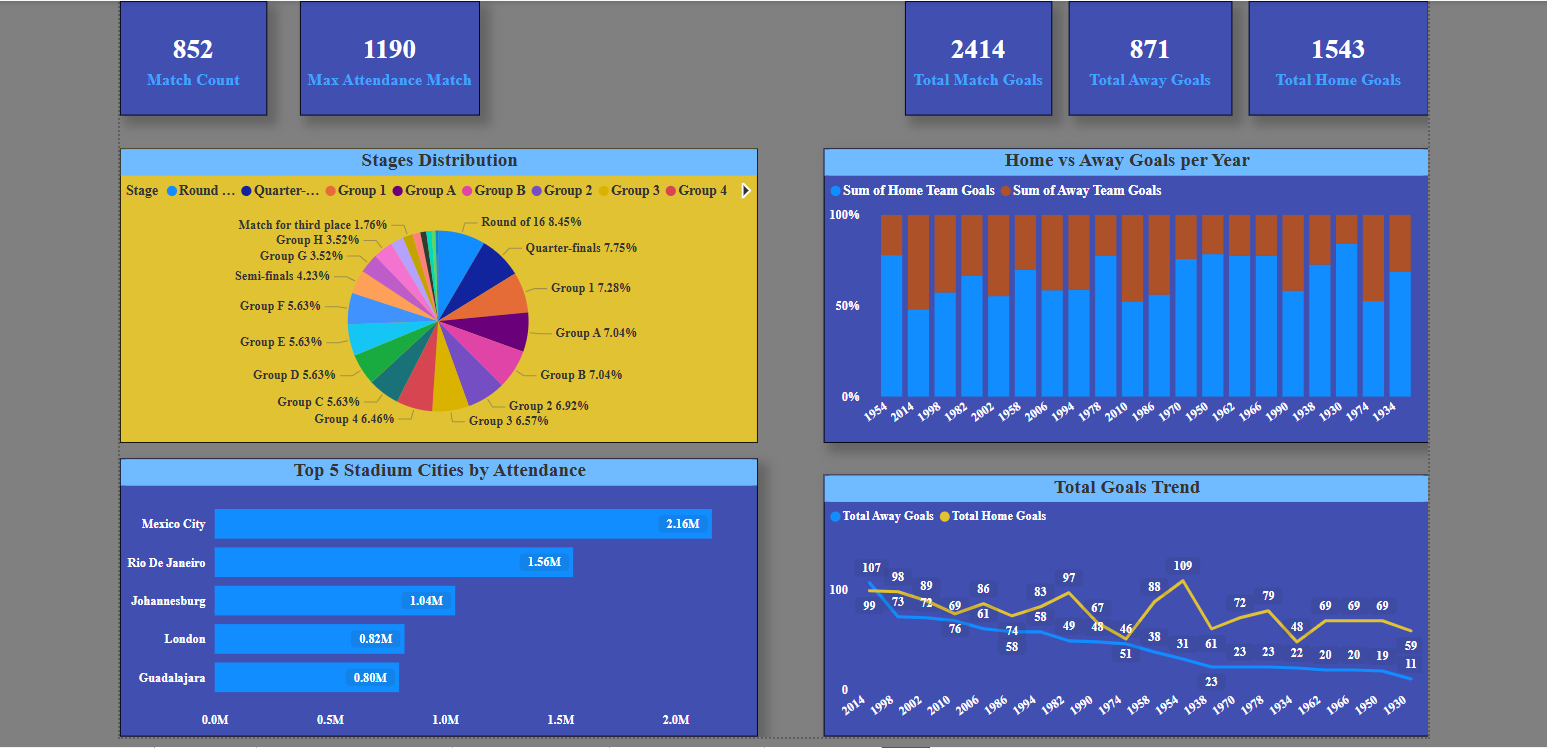

This screenshot's page, from the dashboard's own definition file:
{"tool":"powerbi","page":{"name":"Match Statistics","canvas":[1280,720],"ordinal":2},"visuals":[{"type":"card","fields":{"Values":["WorldCupMatches.Total Away Goals"]},"box":[928,0,160,112],"z":0},{"type":"card","fields":{"Values":["WorldCupMatches.Total Match Goals"]},"box":[768,0,144,112],"z":1000},{"type":"card","fields":{"Values":["WorldCupMatches.Match Count"]},"box":[0,0,144,112],"z":2000},{"type":"card","fields":{"Values":["WorldCupMatches.Max Attendance Match"]},"box":[176,0,176,112],"z":3000},{"type":"card","fields":{"Values":["WorldCupMatches.Total Home Goals"]},"box":[1104,0,176,112],"z":4000},{"type":"hundredPercentStackedColumnChart","title":"Home vs Away Goals per Year","fields":{"Category":["WorldCupMatches.Year"],"Y":["Sum(WorldCupMatches.Home Team Goals)","Sum(WorldCupMatches.Away Team Goals)"]},"box":[688,144,592,288],"z":5000},{"type":"barChart","title":"Top 5 Stadium Cities by Attendance","fields":{"Y":["Sum(WorldCupMatches.Attendance)"],"Category":["WorldCupMatches.City"]},"box":[0,448,624,272],"z":6000},{"type":"lineChart","title":"Total Goals Trend","fields":{"Category":["WorldCupMatches.Year"],"Y":["WorldCupMatches.Total Away Goals","WorldCupMatches.Total Home Goals"]},"box":[688,464,592,256],"z":7000},{"type":"pieChart","title":"Stages Distribution","fields":{"Category":["WorldCupMatches.Stage"],"Y":["WorldCupMatches.Match Count"]},"box":[0,144,624,288],"z":8000}]}

Visuals, with their boxes on the page's 1280x720 design canvas (x1, y1, x2, y2). These are canvas units, not pixel positions in the 1547x748 screenshot, which may show the page scaled, cropped or inside an application window:
card - WorldCupMatches.Total Away Goals: <region>928, 0, 1088, 112</region>
card - WorldCupMatches.Total Match Goals: <region>768, 0, 912, 112</region>
card - WorldCupMatches.Match Count: <region>0, 0, 144, 112</region>
card - WorldCupMatches.Max Attendance Match: <region>176, 0, 352, 112</region>
card - WorldCupMatches.Total Home Goals: <region>1104, 0, 1280, 112</region>
"Home vs Away Goals per Year" hundredPercentStackedColumnChart: <region>688, 144, 1280, 432</region>
"Top 5 Stadium Cities by Attendance" barChart: <region>0, 448, 624, 720</region>
"Total Goals Trend" lineChart: <region>688, 464, 1280, 720</region>
"Stages Distribution" pieChart: <region>0, 144, 624, 432</region>
